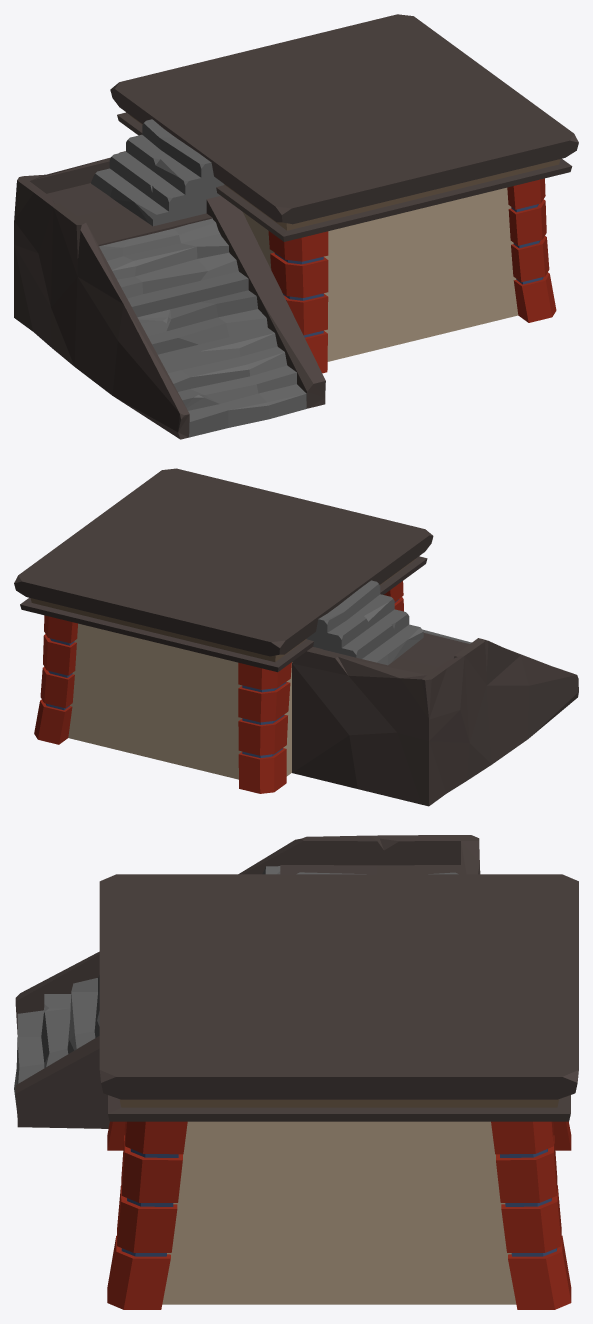
File: Building_7.fbx
3 renders of one model, top to bottom at view 1: azimuth 30°, elevation 25°; view 2: azimuth 150°, elevation 25°; view 3: azimuth 270°, elevation 25°, orthographic. The views are drawn at different scales.
Parts seen in each view (by area): view 1: Building_7; view 2: Building_7; view 3: Building_7.
Boxes of the visible parts, <box> form: Building_7: <box>14,14,578,439</box>; Building_7: <box>14,468,578,806</box>; Building_7: <box>14,835,578,1309</box>.
Bounding box in the file's own units: 7.81 × 3 × 6.32.
